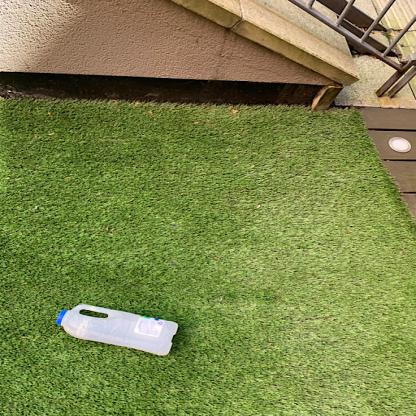trash: (56, 303, 180, 356)
